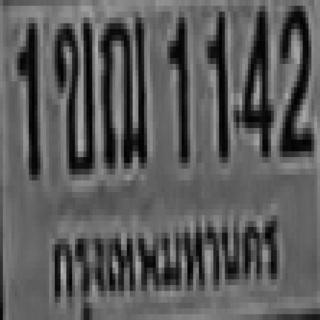A02: (52, 17, 92, 169)
A12: (99, 12, 146, 163)
N01: (15, 18, 38, 174), (205, 6, 225, 157), (166, 14, 186, 160)
N02: (277, 0, 311, 151)
N04: (239, 3, 271, 154)
P04: (48, 216, 283, 304)
